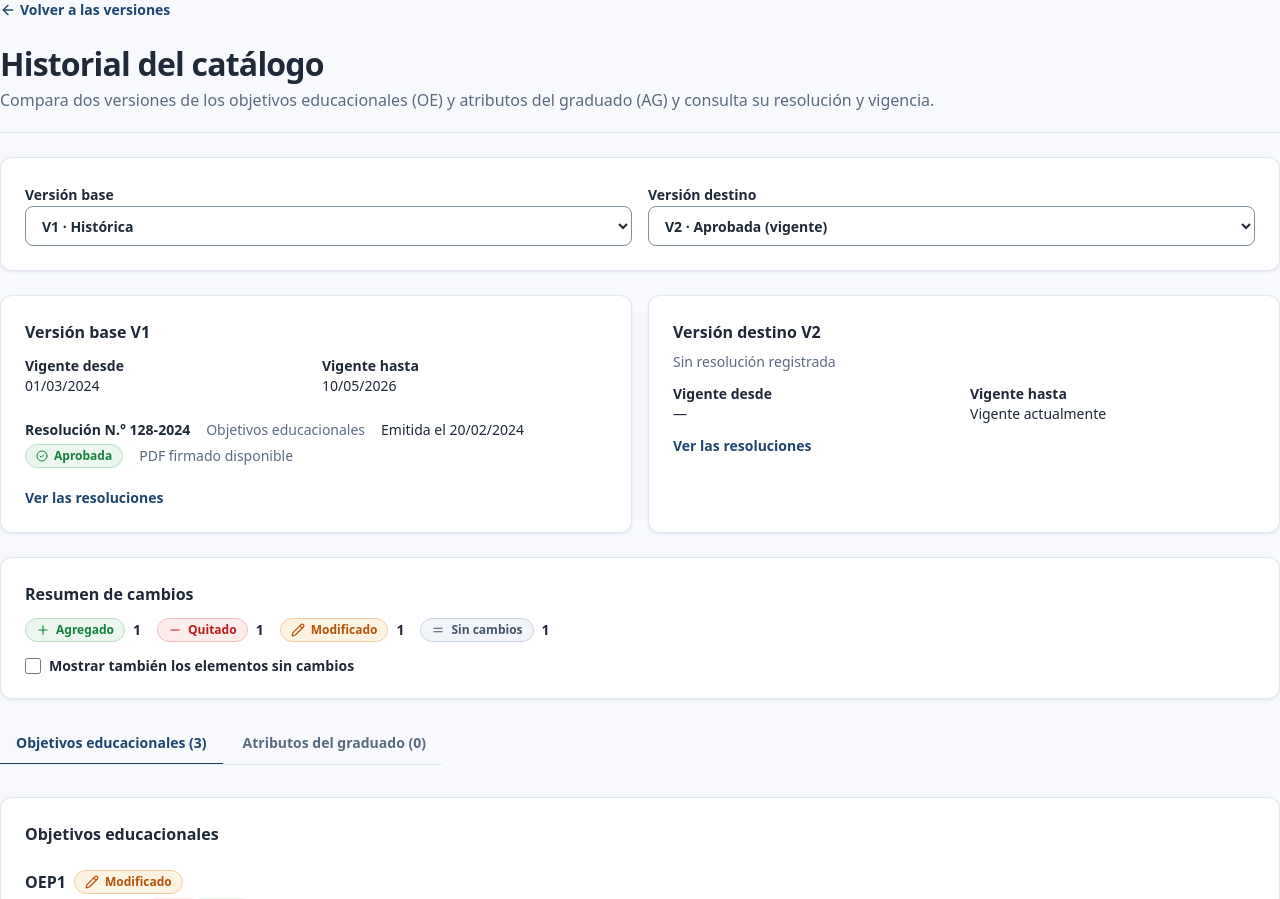
Test case: CatalogComparisonPage Component (HU-017, T-017-11, CA1, CA2, RNF-036) › keeps the tab when the selected versions change
Click the tab "Atributos del graduado (0)" at [334, 744], box [226,723,442,765]
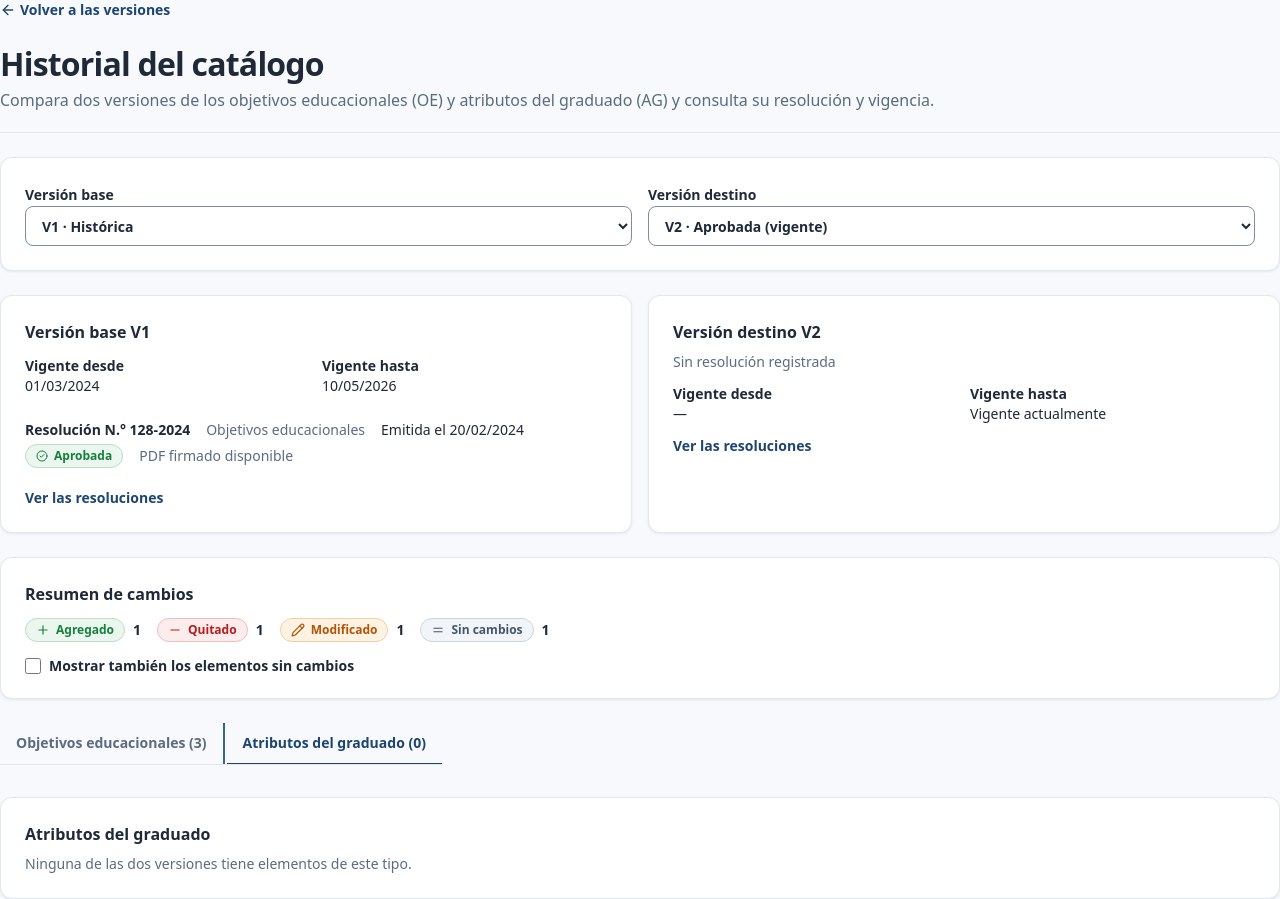
Now the tab "Atributos del graduado (0)" is selected, box [226,723,442,765]
Select "V2 · Aprobada (vigente)" in the dropdown labelled "Versión base" at [328, 226], box [25,206,632,246]
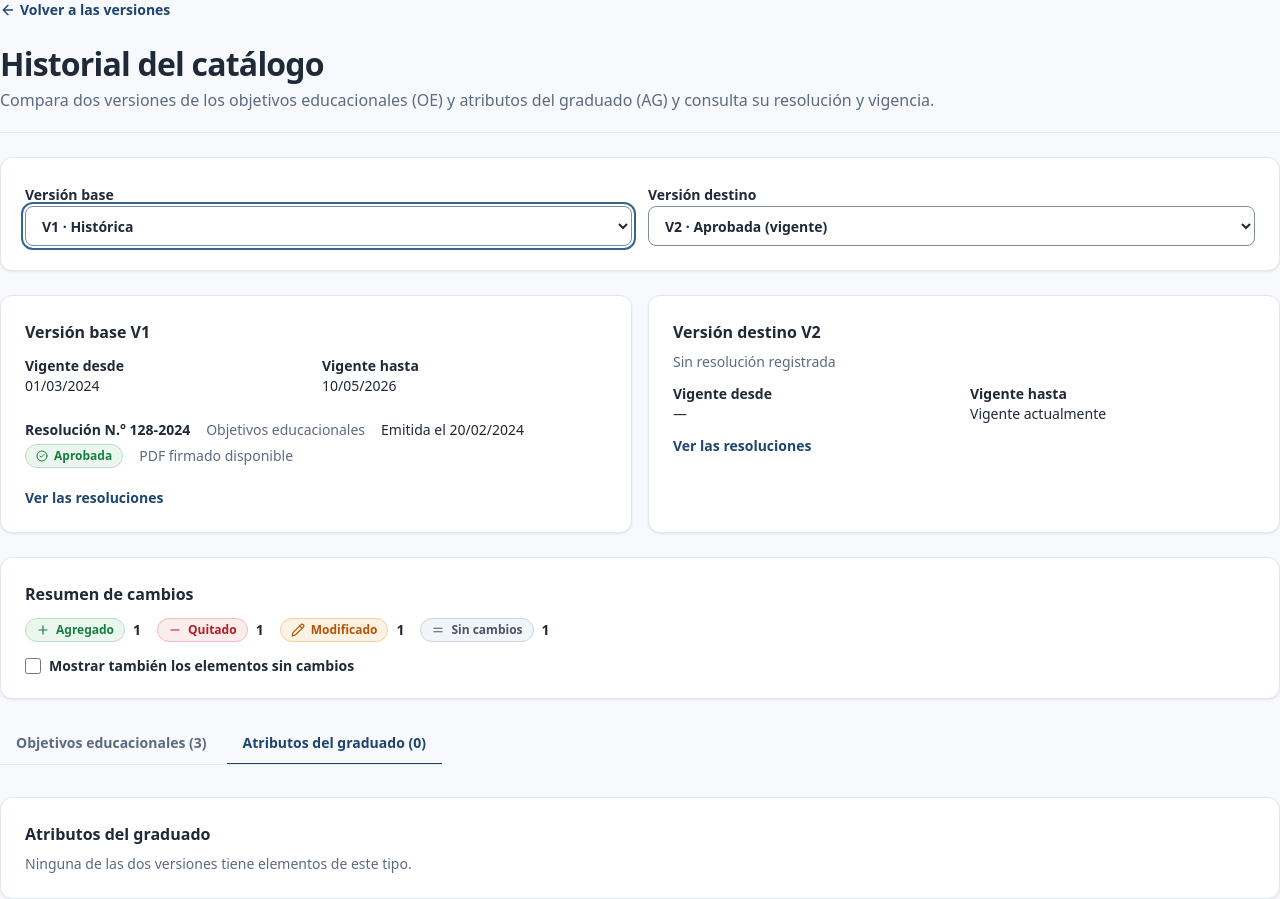
Now the tab "Atributos del graduado (0)" is selected, box [226,723,442,765]
